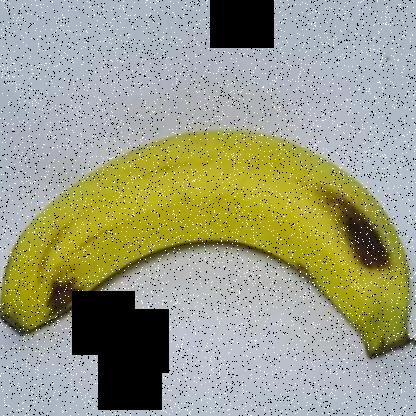freshripe: (0, 121, 415, 376)
